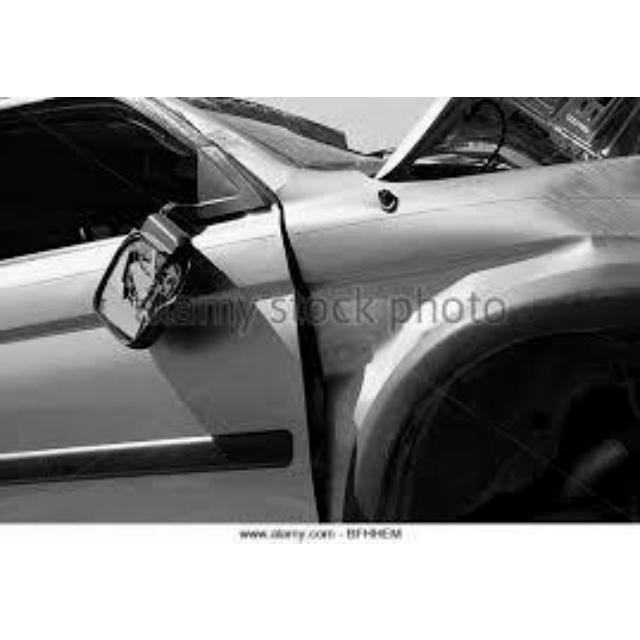Sidemirror-Damage: (60, 151, 255, 331)
fender-dent: (301, 184, 600, 398)
